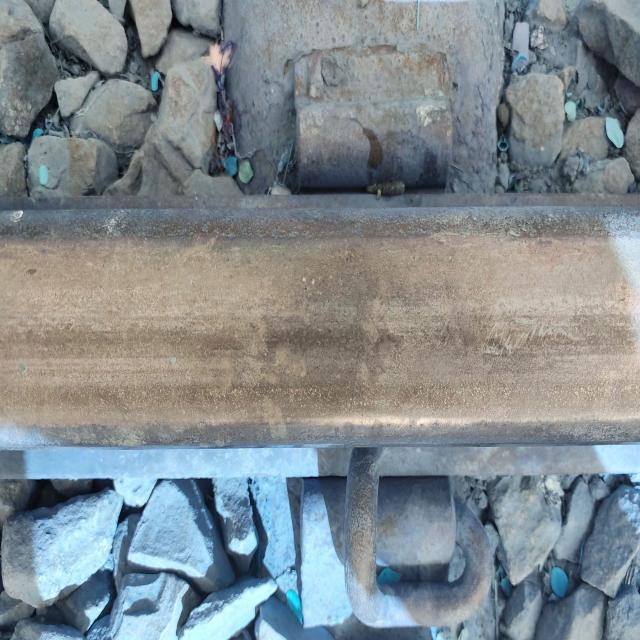Good Fasteners: (282, 444, 514, 640)
Missing Fastener: (277, 22, 466, 215)
